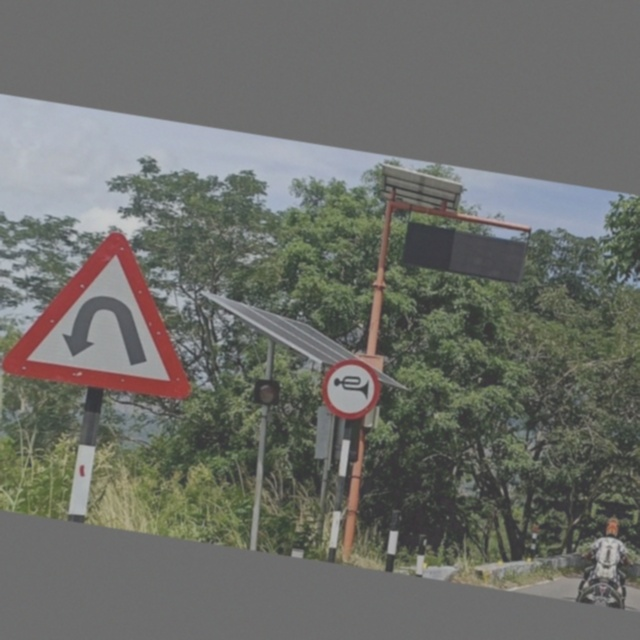Left_Hair_Pin_Bend: (1, 217, 219, 408)
